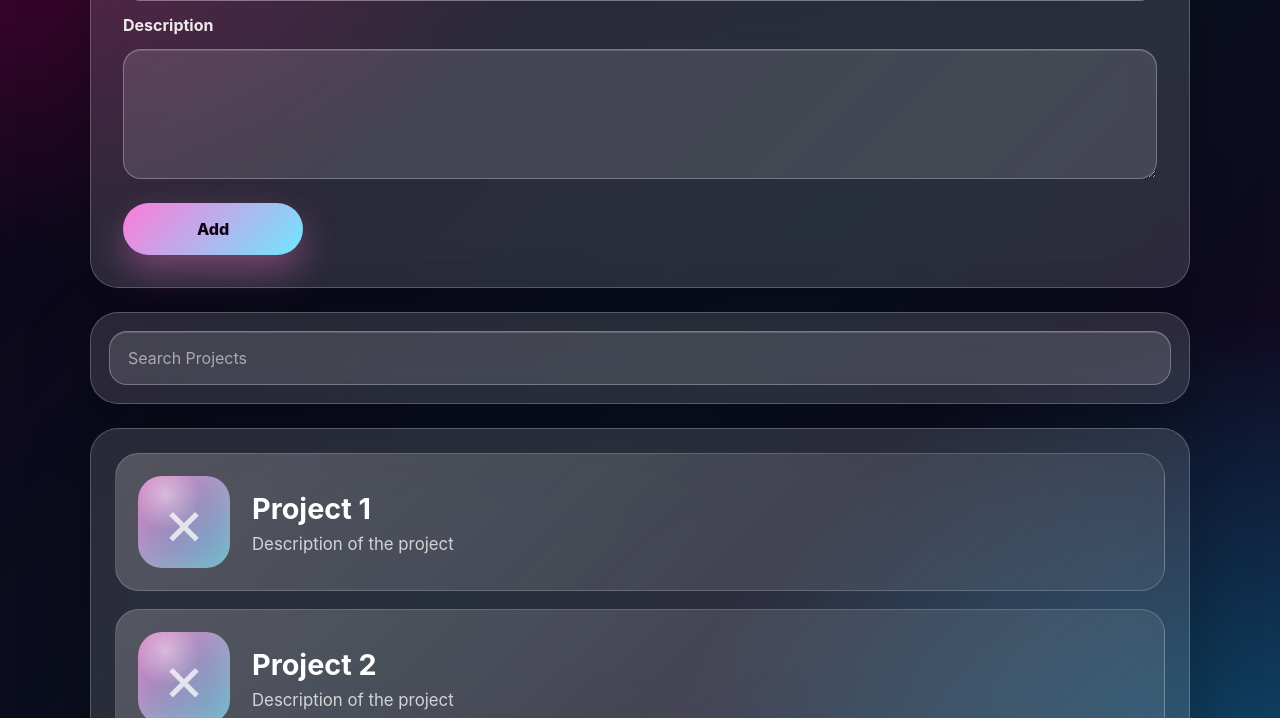
it: filters projects by search term
(page scrolled)
Type "Project 1" into the field with placeholder "Search Projects" at (640, 358), box left=109, top=331, right=1171, bottom=385
(page scrolled)
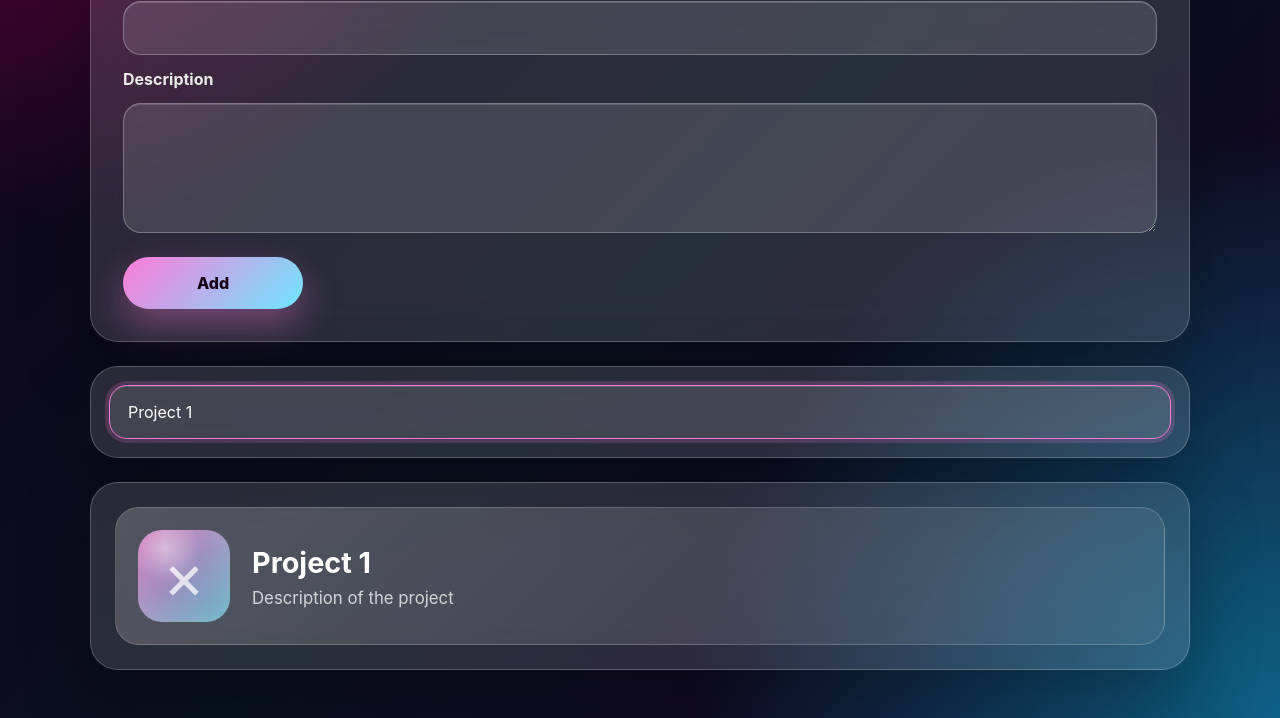
Expected: the heading "Project 1" is shown, left=252, top=544, right=371, bottom=580
Now the heading "Project 2" is gone
